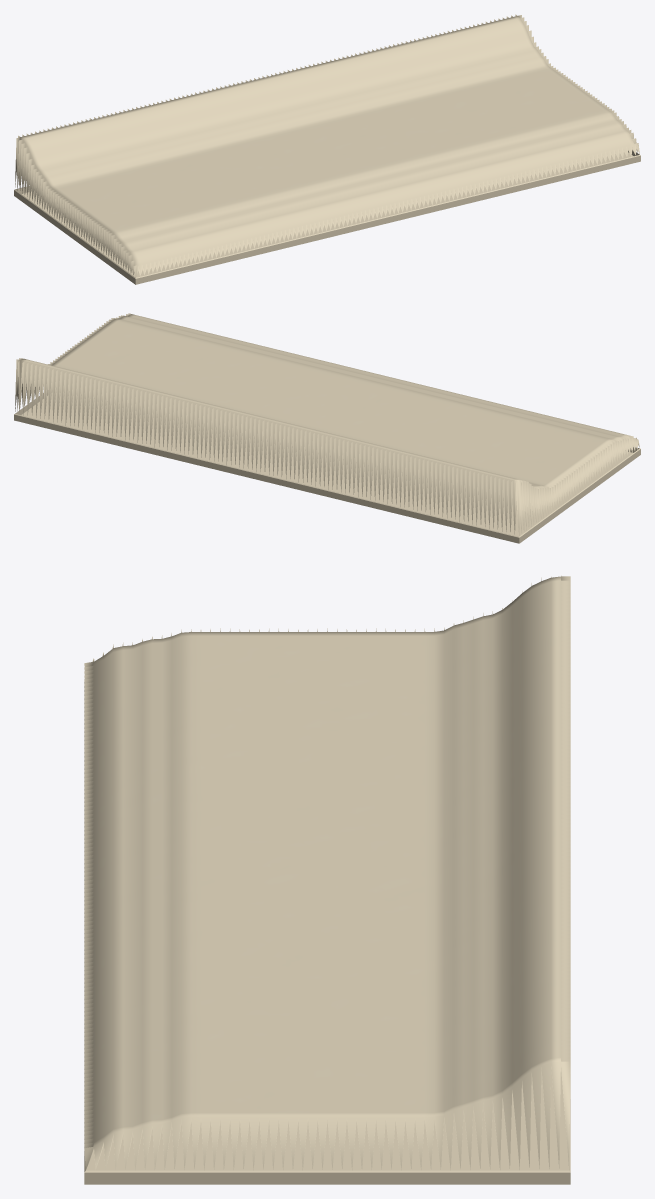
Rendered from mahsulot.glb.
The picture shows the model from 3 angles, top to bottom: view 1: azimuth 30°, elevation 25°; view 2: azimuth 150°, elevation 25°; view 3: azimuth 270°, elevation 25°; orthographic projection. The views are drawn at different scales.
Visible parts, largest first — view 1: mahsulot; view 2: mahsulot; view 3: mahsulot.
Part boxes in pixels (box(x1,y1,x2,y2)): mahsulot: box(14, 14, 640, 284); mahsulot: box(14, 313, 640, 543); mahsulot: box(84, 575, 570, 1184).
Bounding box in the file's own units: 1.2 × 0.1351 × 0.5.
